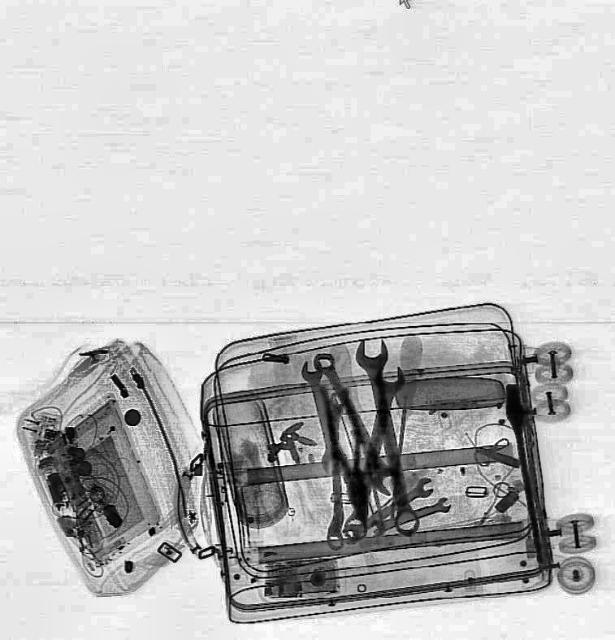Wrench: (352, 337, 430, 537), (304, 346, 406, 498), (344, 360, 408, 492), (338, 476, 438, 546), (296, 358, 352, 474), (366, 496, 452, 540), (326, 392, 346, 550)
